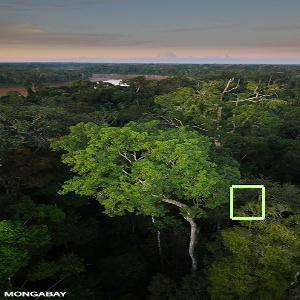square: (227, 183, 266, 222)
